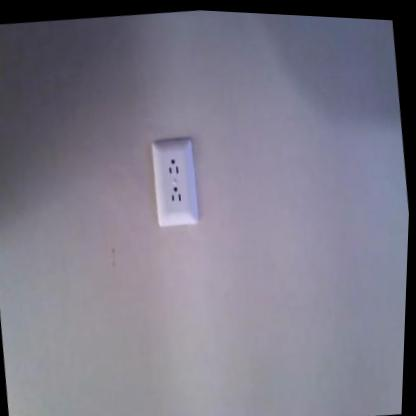OUTLET: (147, 137, 202, 228)
